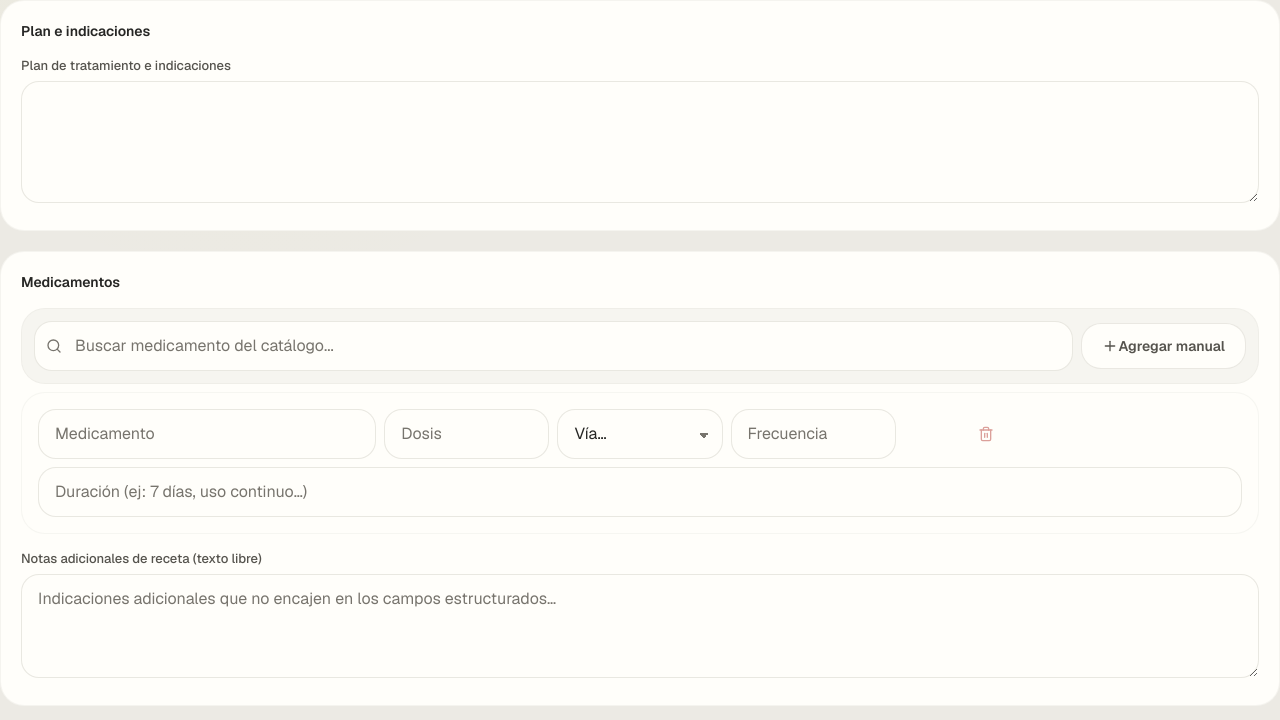
it: TratamientoSection › fills the active ingredient when a catalog medication is selected
Type "ome" into the field with placeholder "Buscar medicamento del catálogo..." at (554, 346), box [34,321,1074,371]
Wait 300 ms
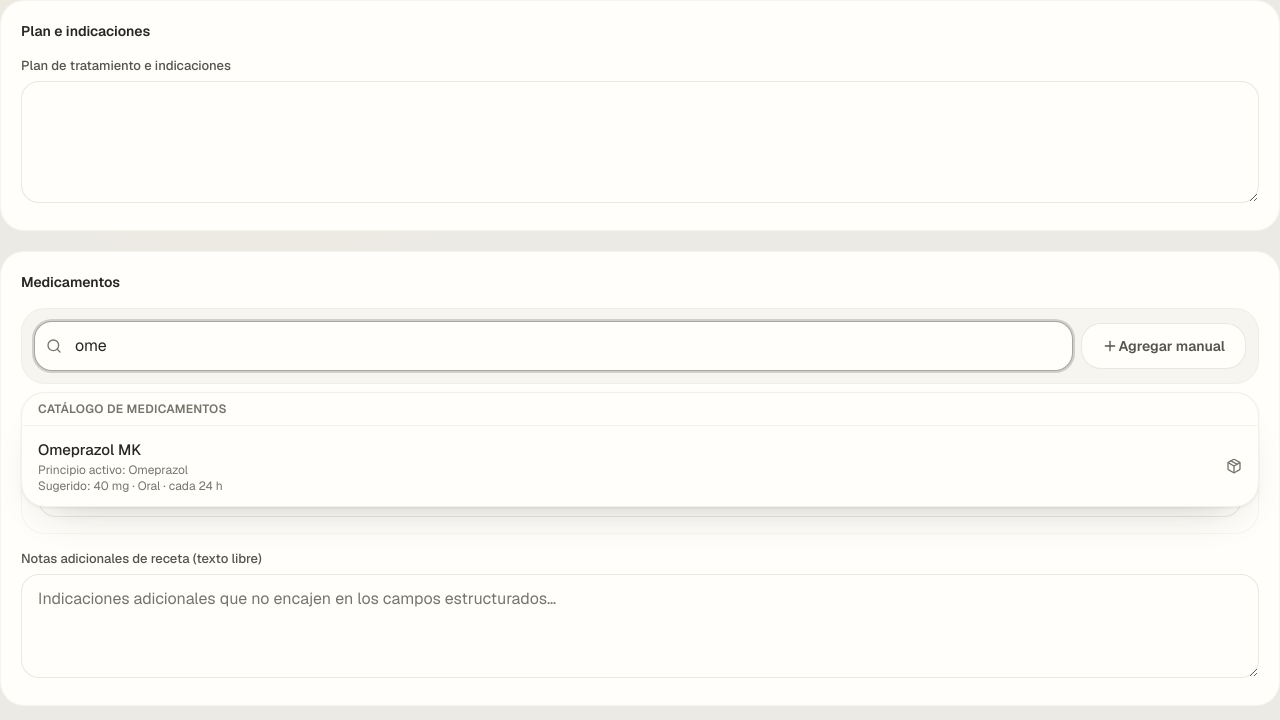
Click the button "Omeprazol MK" at (90, 450), box [22,426,1258,506]
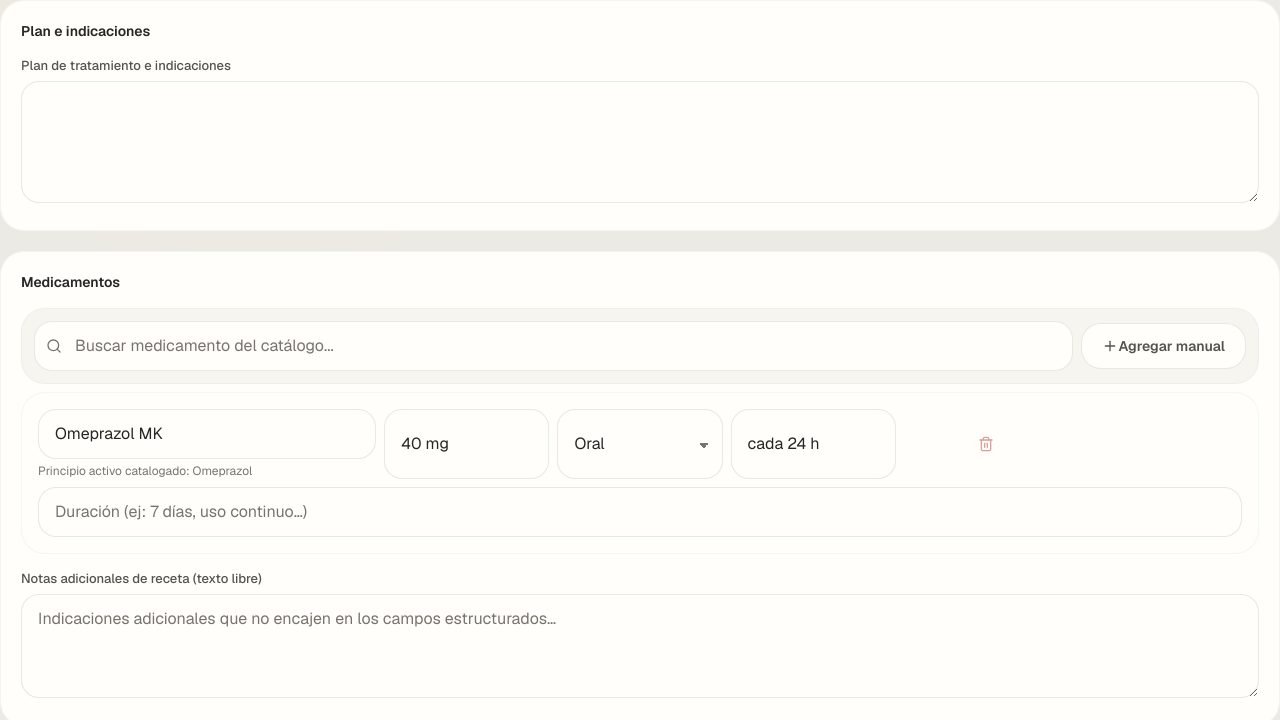
Expected: the text "Principio activo catalogado: Omeprazol" is shown, [38,463,252,479]
